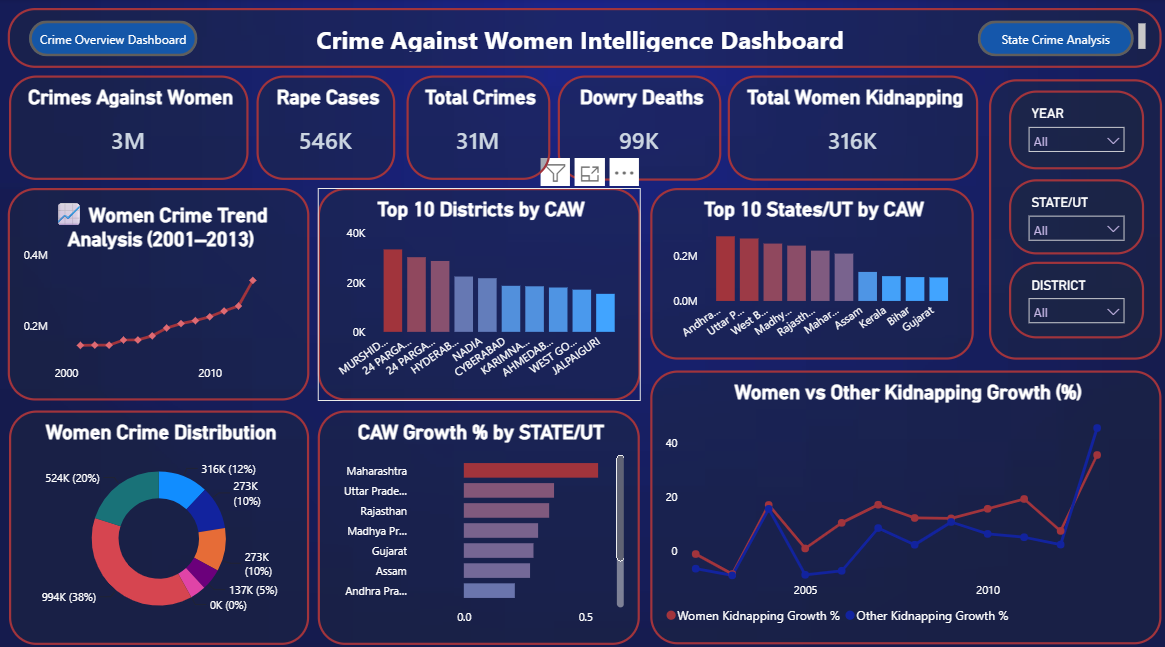

Layout of this report page (visuals, bound fields, positions):
{"tool":"powerbi","page":{"name":" Women Crime Intelligence Dashboard","canvas":[1280,720],"ordinal":1},"visuals":[{"type":"cardVisual","title":"Rape Cases","fields":{"Data":["CRIME AGAINST WOMEN.Total Rape Cases"]},"box":[282.4,85.5,152.1,114],"z":0},{"type":"cardVisual","title":"Dowry Deaths","fields":{"Data":["CRIME AGAINST WOMEN.Total Dowry deaths"]},"box":[612.3,85.5,179.2,115.4],"z":1000},{"type":"cardVisual","title":" Crimes Against Women","fields":{"Data":["DATA TABLE.total of crime against women"]},"box":[10.9,85.5,262,114],"z":2000},{"type":"textbox","box":[9.6,11,1263.8,65.9],"z":3000},{"type":"shape","box":[1084.1,89.2,189.4,307.4],"z":4000},{"type":"slicer","fields":{"Values":["DATA TABLE.YEAR"]},"box":[1106,101.5,148.2,86.4],"z":5000},{"type":"slicer","fields":{"Values":["DATA TABLE.STATE/UT"]},"box":[1106,199,148.2,82.3],"z":6000},{"type":"slicer","fields":{"Values":["DATA TABLE.DISTRICT"]},"box":[1106,289.5,148.2,83.7],"z":7000},{"type":"lineChart","title":"📈 Women Crime Trend Analysis (2001–2013)","fields":{"Category":["DATA TABLE.YEAR"],"Y":["DATA TABLE.total of crime against women"]},"box":[9.5,208.4,330.2,232.8],"z":8000},{"type":"columnChart","title":"Top 10 States/UT by CAW","fields":{"Category":["DATA TABLE.STATE/UT"],"Y":["DATA TABLE.total of crime against women"]},"box":[713.8,208.2,354.2,187.9],"z":9000},{"type":"clusteredColumnChart","title":"Top 10 Districts by CAW","fields":{"Category":["DATA TABLE.DISTRICT"],"Y":["DATA TABLE.total of crime against women"]},"box":[349.2,208.4,353.2,232.8],"z":10000},{"type":"lineChart","title":"Women vs Other Kidnapping Growth (%)","fields":{"Category":["DATA TABLE.YEAR"],"Y":["CRIME AGAINST WOMEN.Women Kidnapping Growth %","CRIME AGAINST WOMEN.Other Kidnapping Growth %"]},"box":[713.8,408.3,559.7,300.1],"z":11000},{"type":"cardVisual","title":"Total Crimes","fields":{"Data":["DATA TABLE.Total Crimes"]},"box":[446.7,85.5,157.5,114],"z":12000},{"type":"cardVisual","title":" Total Women Kidnapping","fields":{"Data":["CRIME AGAINST WOMEN.Total Women Kidnapping Cases"]},"box":[798.3,85.5,274.2,115.4],"z":13000},{"type":"clusteredBarChart","fields":{"Category":["DATA TABLE.STATE/UT"],"Y":["DATA TABLE.CAW Growth %"]},"box":[348.8,451.5,352.9,256.9],"z":14000},{"type":"donutChart","title":"Women Crime Distribution ","fields":{"Y":["Sum(DATA TABLE.KIDNAPPING AND ABDUCTION OF WOMEN AND GIRLS)","Sum(DATA TABLE.OTHER RAPE)","Sum(DATA TABLE.RAPE)","Sum(DATA TABLE.INSULT TO MODESTY OF WOMEN)","Sum(DATA TABLE.DOWRY DEATHS)","Sum(DATA TABLE.CUSTODIAL RAPE)","Sum(DATA TABLE.IMPORTATION OF GIRLS FROM FOREIGN COUNTRIES)","Sum(DATA TABLE.CRUELTY BY HUSBAND OR HIS RELATIVES)","Sum(DATA TABLE.ASSAULT ON WOMEN WITH INTENT TO OUTRAGE HER MODESTY)"]},"box":[10.8,451.5,328.5,256.9],"z":15000},{"type":"actionButton","box":[1072.8,24.4,170.9,39.3],"z":16000},{"type":"actionButton","box":[32.5,24.4,184.4,39.3],"z":17000}]}

Visuals, with their boxes in screenshot pixels (x1, y1, x2, y2), scaled from the page's 1280x720 canvas onto the 1165x647 screenshot:
"Rape Cases" cardVisual: x1=257, y1=77, x2=395, y2=179
"Dowry Deaths" cardVisual: x1=557, y1=77, x2=720, y2=181
" Crimes Against Women" cardVisual: x1=10, y1=77, x2=248, y2=179
textbox: x1=9, y1=10, x2=1159, y2=69
shape: x1=987, y1=80, x2=1159, y2=356
slicer - DATA TABLE.YEAR: x1=1007, y1=91, x2=1142, y2=169
slicer - DATA TABLE.STATE/UT: x1=1007, y1=179, x2=1142, y2=253
slicer - DATA TABLE.DISTRICT: x1=1007, y1=260, x2=1142, y2=335
"📈 Women Crime Trend Analysis (2001–2013)" lineChart: x1=9, y1=187, x2=309, y2=396
"Top 10 States/UT by CAW" columnChart: x1=650, y1=187, x2=972, y2=356
"Top 10 Districts by CAW" clusteredColumnChart: x1=318, y1=187, x2=639, y2=396
"Women vs Other Kidnapping Growth (%)" lineChart: x1=650, y1=367, x2=1159, y2=637
"Total Crimes" cardVisual: x1=407, y1=77, x2=550, y2=179
" Total Women Kidnapping" cardVisual: x1=727, y1=77, x2=976, y2=181
clusteredBarChart - DATA TABLE.STATE/UT x DATA TABLE.CAW Growth %: x1=317, y1=406, x2=639, y2=637
"Women Crime Distribution " donutChart: x1=10, y1=406, x2=309, y2=637
actionButton: x1=976, y1=22, x2=1132, y2=57
actionButton: x1=30, y1=22, x2=197, y2=57
